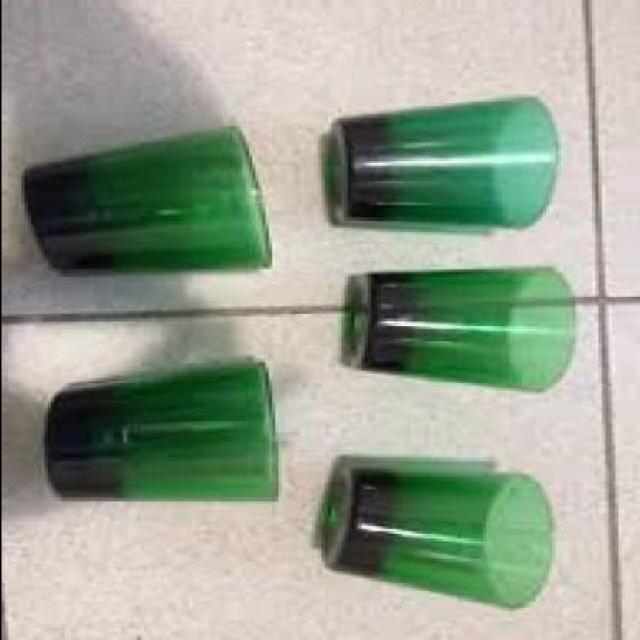GLASS: (23, 129, 277, 276), (46, 363, 280, 505), (324, 469, 558, 611), (347, 270, 581, 396), (336, 99, 558, 230)
